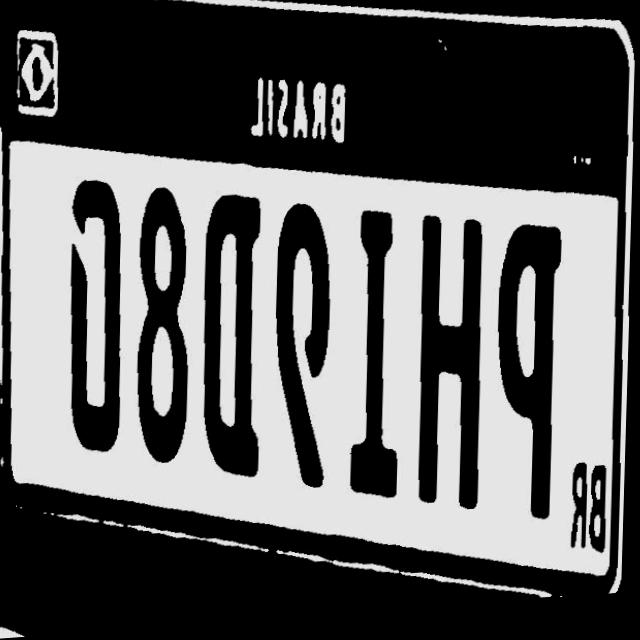0: (52, 170, 125, 472)
8: (119, 178, 197, 485)
9: (270, 193, 341, 514)
d: (190, 183, 270, 507)
h: (410, 206, 494, 534)
i: (343, 199, 407, 523)
p: (490, 221, 564, 544)
